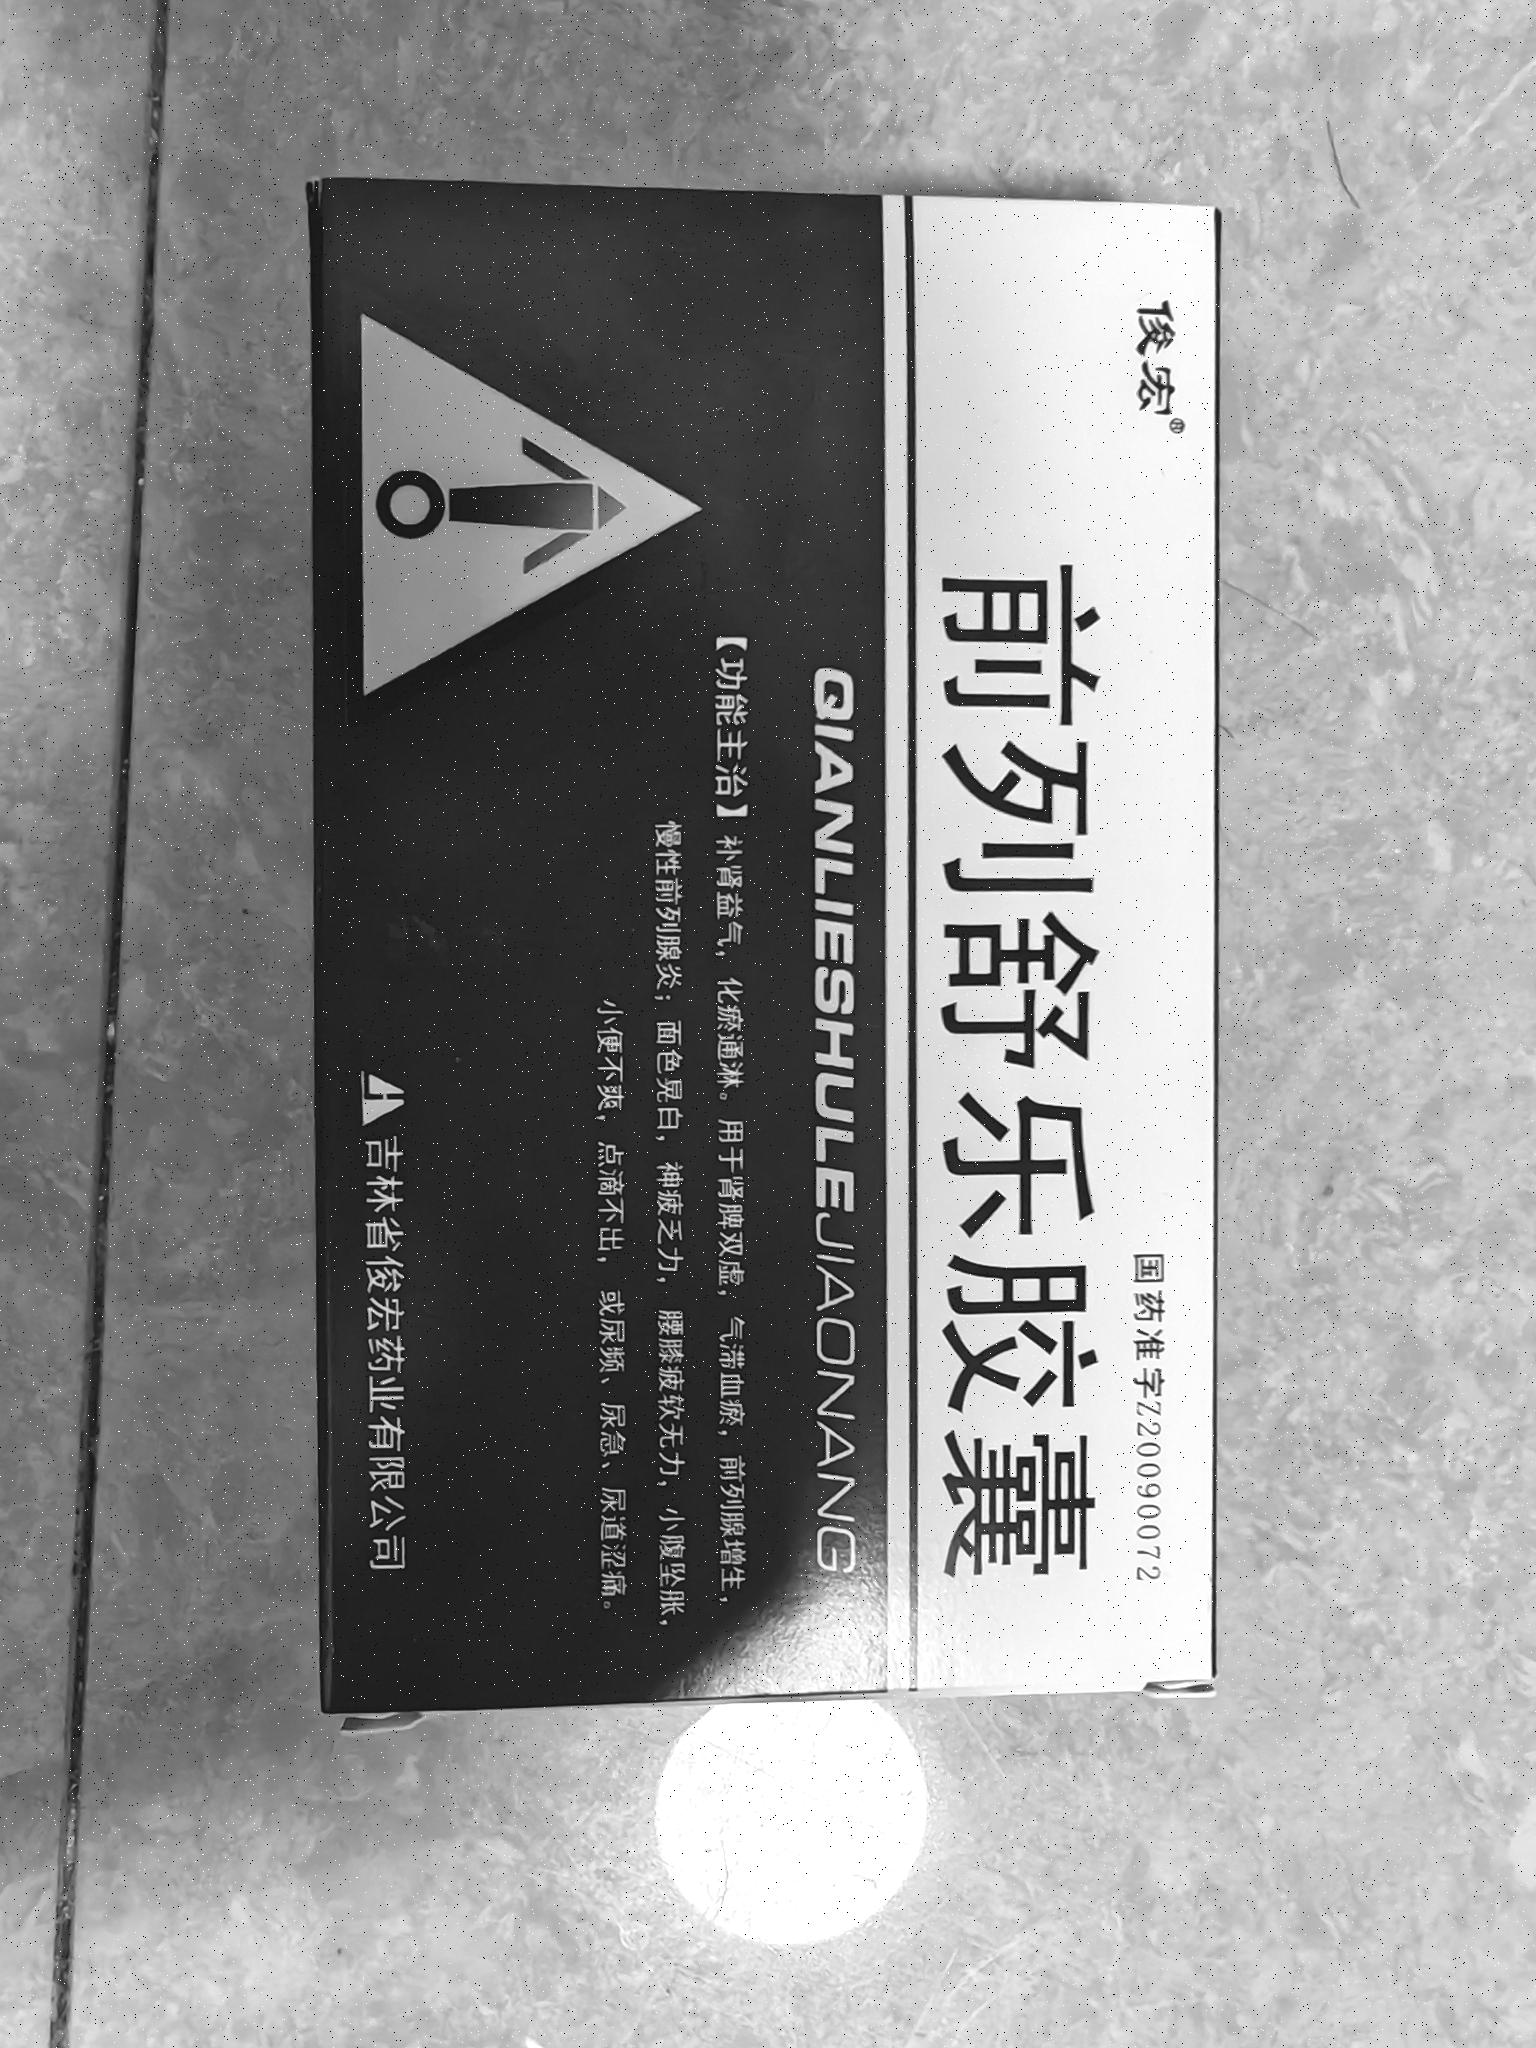Medicine2: (275, 150, 1247, 1746)
